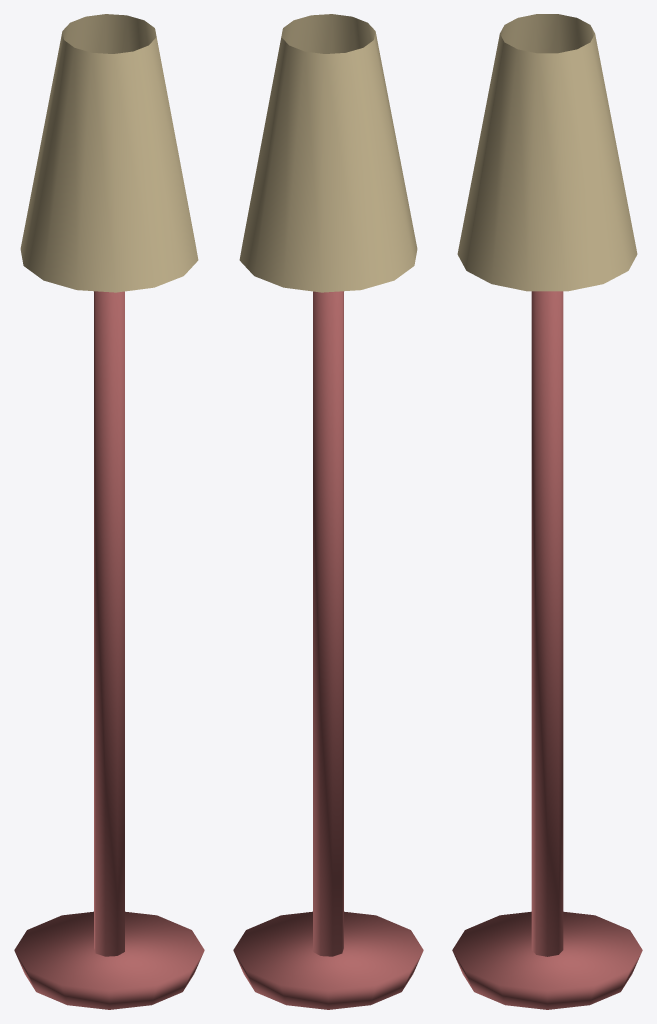
The model's file is shadewood_lamp_v0.glb.
The picture shows the model from 3 angles, left to right: view 1: azimuth 30°, elevation 25°; view 2: azimuth 150°, elevation 25°; view 3: azimuth 270°, elevation 25°; orthographic projection.
Parts seen in each view (by area): view 1: shadewood_lamp_v0; view 2: shadewood_lamp_v0; view 3: shadewood_lamp_v0.
Part boxes in pixels (x1,y1,x2,y2): shadewood_lamp_v0: [14, 14, 204, 1009]; shadewood_lamp_v0: [233, 14, 423, 1009]; shadewood_lamp_v0: [452, 14, 642, 1009].
Bounding box in the file's own units: 0.36 × 1.96 × 0.36.
